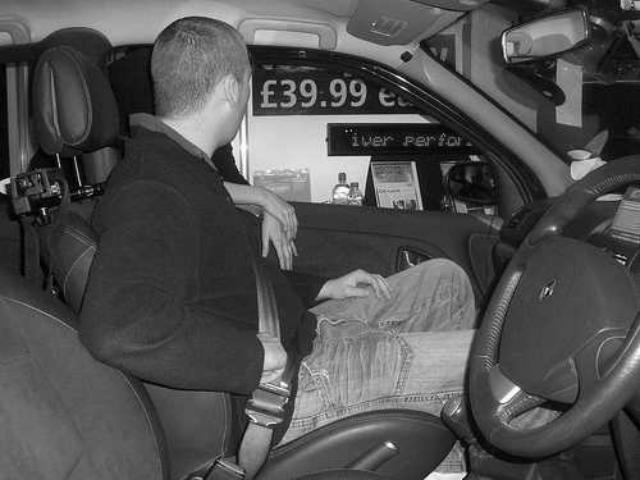Seatbelt: (244, 258, 296, 428)
